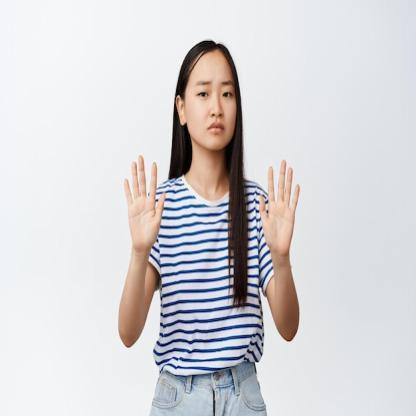stop: (257, 156, 302, 258), (122, 154, 167, 252)
